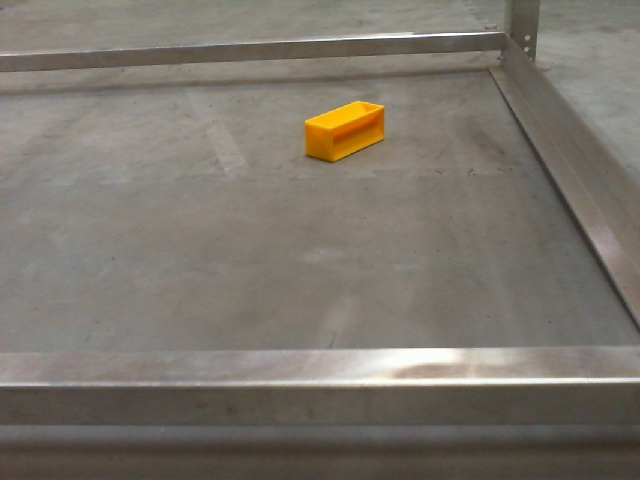YellowSample: (299, 98, 389, 165)
